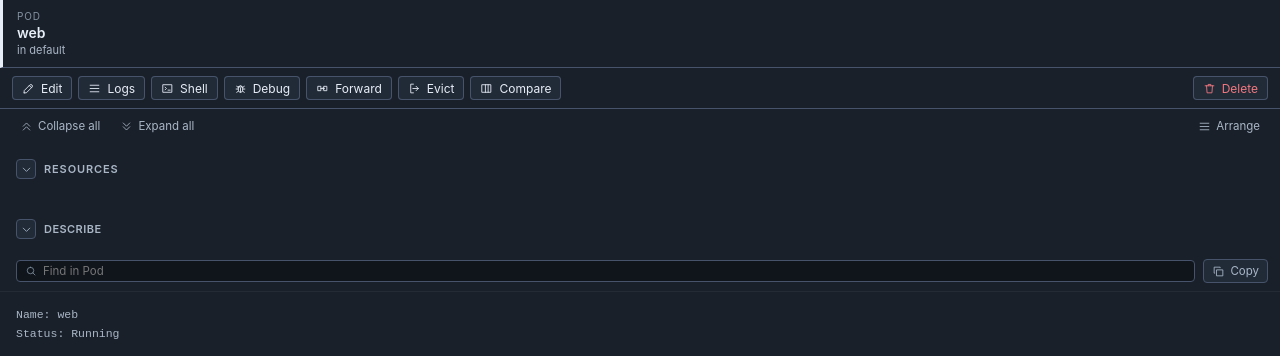
Test: the report folds away, and stays folded for the next object
The width and height of the screenshot is (1280, 356).
Click the button "Describe" at [73, 229], box [10,213,1270,245]
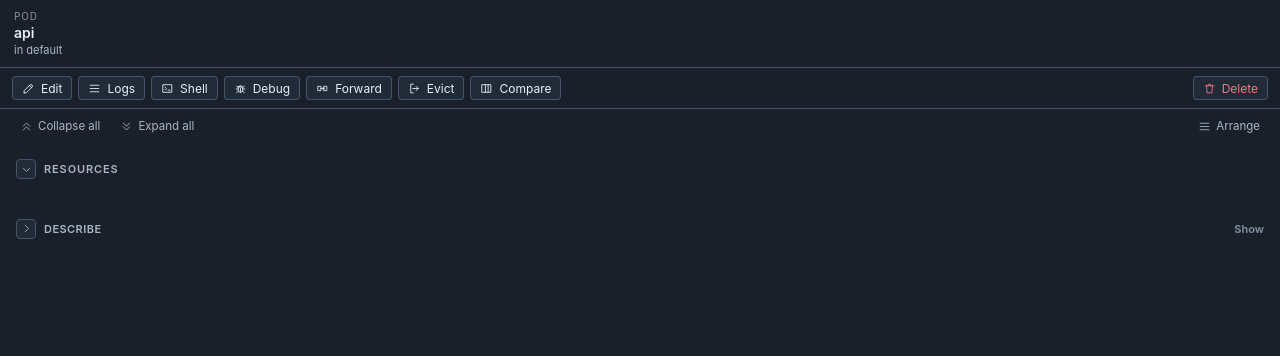
Click the button "Describe Show" at [73, 229], box [10,213,1270,245]
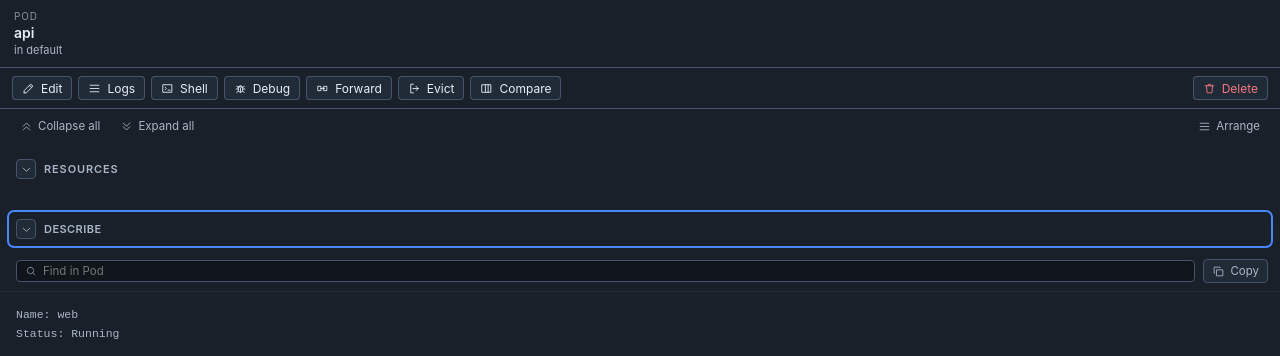
Now the field named "Find in this report" is shown, box [43,264,1186,278]
